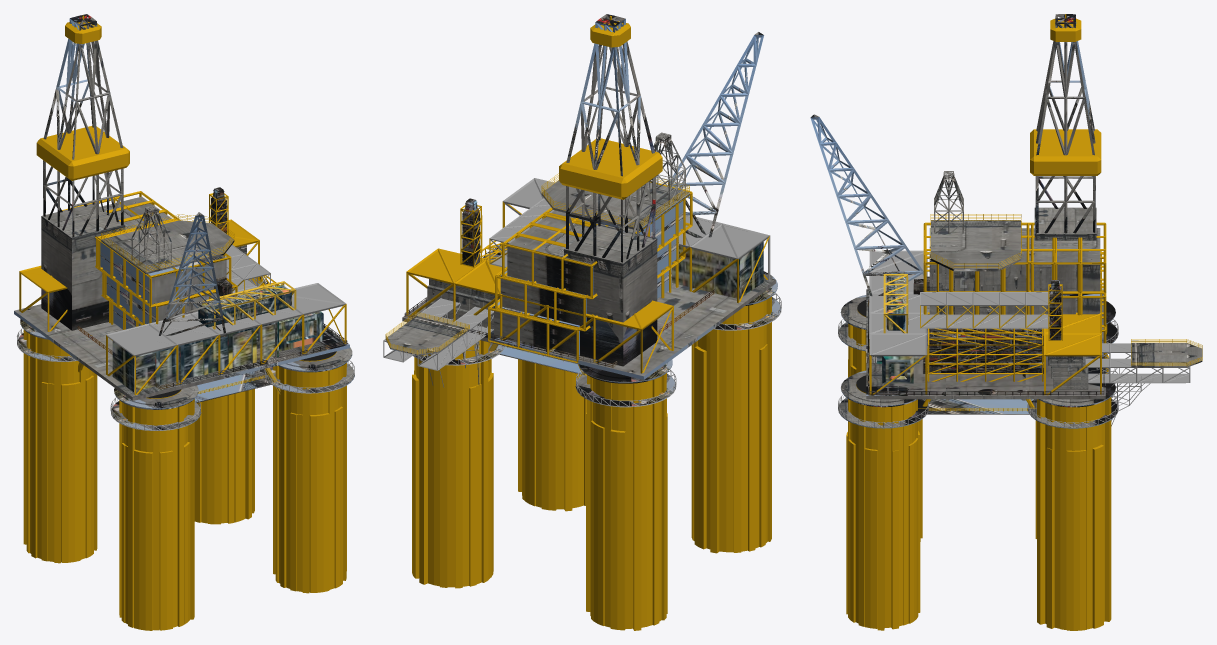
Rendered from oil_rig_-_low_poly.glb.
3 renders of one model, left to right at view 1: azimuth 30°, elevation 25°; view 2: azimuth 150°, elevation 25°; view 3: azimuth 270°, elevation 25°, orthographic. The views are drawn at different scales.
Parts seen in each view (by area): view 1: Object_5, Object_14, Object_60, Object_4, Object_64, Object_12; view 2: Object_5, Object_14, Object_4, Object_60, Object_64; view 3: Object_5, Object_14, Object_4, Object_64, Object_60, Object_12.
Boxes of the visible parts, box(x1,y1,x2,y2) form: Object_5: box(19, 15, 346, 630); Object_14: box(14, 14, 354, 430); Object_60: box(112, 285, 323, 392); Object_4: box(17, 244, 354, 430); Object_64: box(77, 187, 347, 389); Object_12: box(202, 271, 296, 394); Object_5: box(385, 16, 771, 630); Object_14: box(385, 14, 780, 406); Object_4: box(383, 178, 781, 407); Object_60: box(672, 242, 763, 299); Object_64: box(404, 198, 715, 367); Object_5: box(846, 14, 1202, 630); Object_14: box(810, 14, 1202, 428); Object_4: box(838, 250, 1190, 427); Object_64: box(868, 276, 1104, 395); Object_60: box(876, 273, 919, 383); Object_12: box(883, 274, 1049, 333).
Bounding box in the file's own units: 96.25 × 209 × 140.
7 materials, 3 textured.
